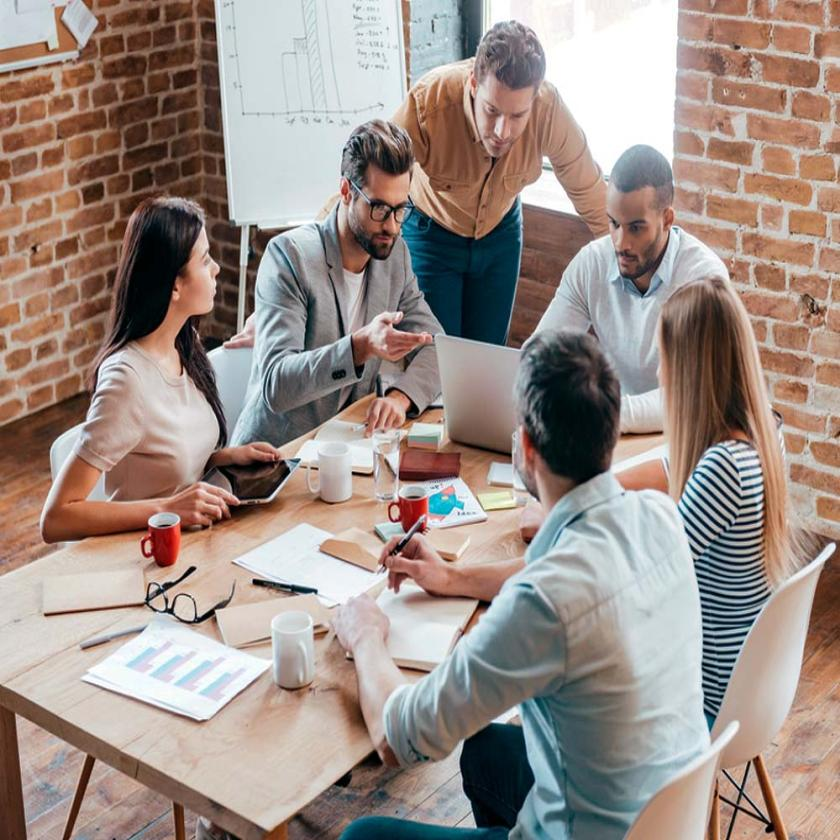Sin_casco: (506, 316, 630, 501), (658, 276, 750, 449), (122, 192, 223, 343), (464, 13, 553, 165), (339, 115, 419, 280), (606, 140, 676, 277)
